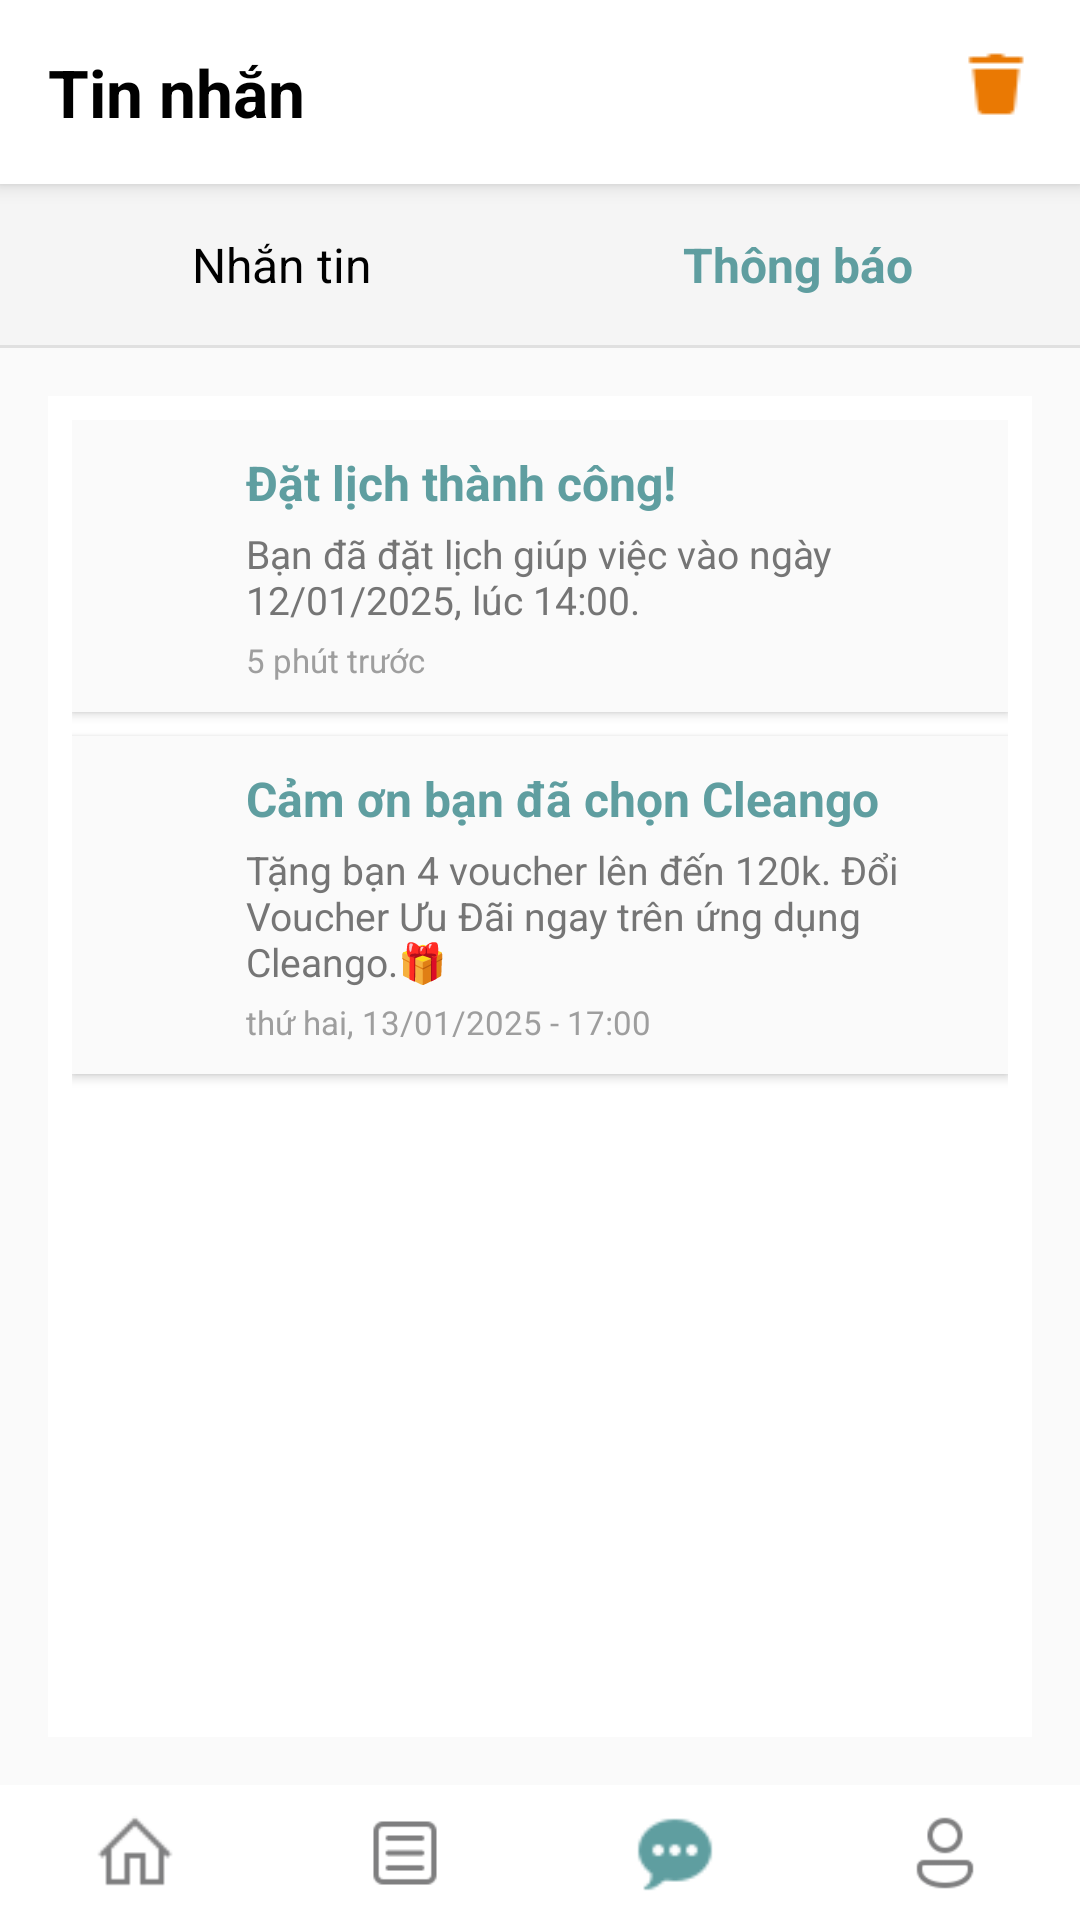

Icon bounding boxes for this 1080*1920 phone screenshot, format detection(x1, y1, x2, y2):
delete: detection(968, 53, 1024, 115)
History: detection(373, 1821, 437, 1885)
Home: detection(98, 1818, 172, 1885)
Profile: detection(916, 1817, 974, 1889)
Support: detection(638, 1818, 712, 1890)
